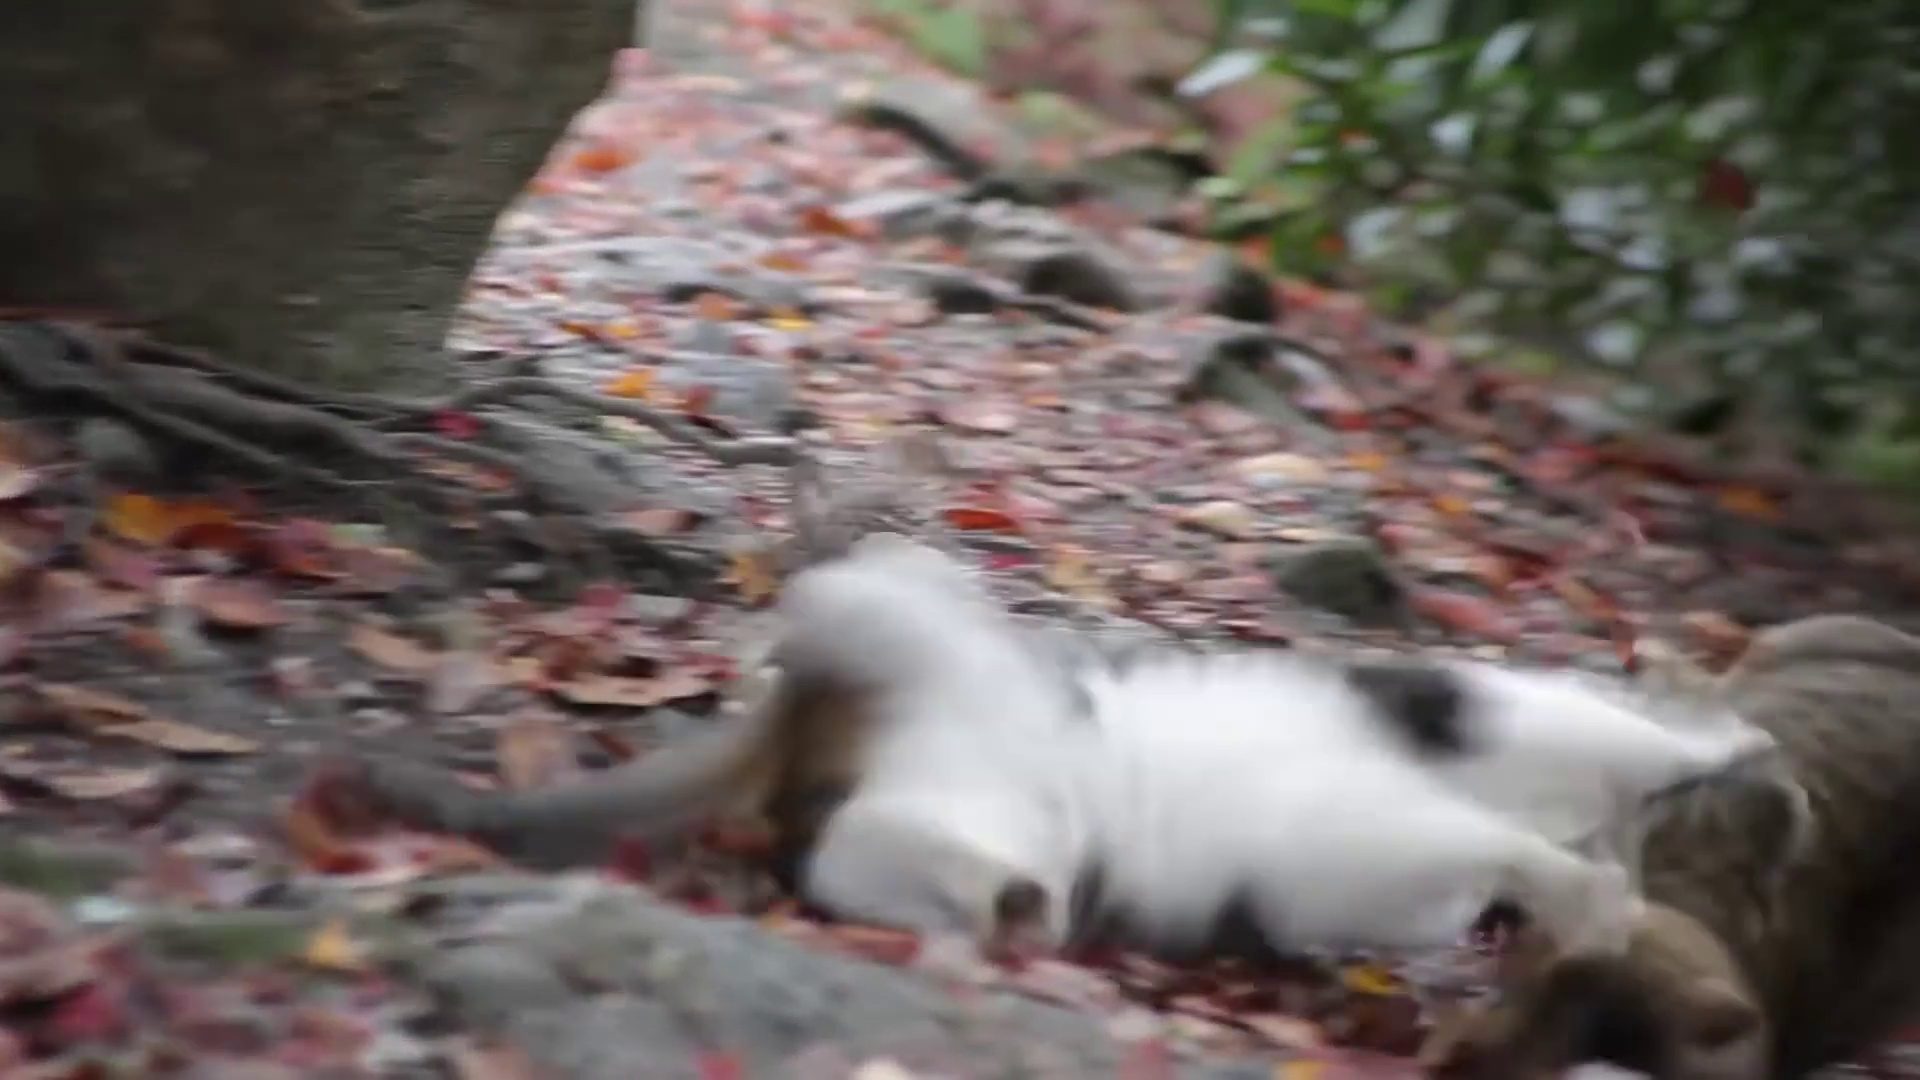black-white: (363, 542, 1753, 981)
pure black: (1418, 617, 1920, 1080)
